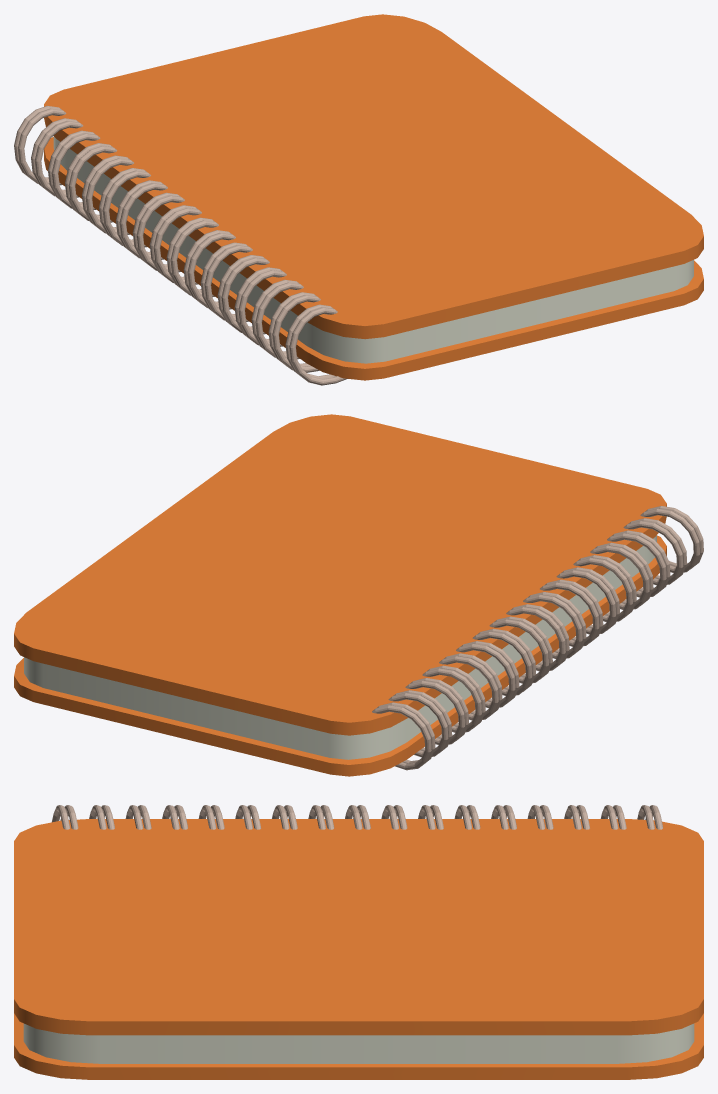
The model's file is wired_notebook_v2.fbx.
3 views of the same model, one above another, from view 1: azimuth 30°, elevation 25°; view 2: azimuth 150°, elevation 25°; view 3: azimuth 270°, elevation 25° (orthographic). The views are drawn at different scales.
Visible parts, largest first — view 1: Wired Book, Wires; view 2: Wired Book, Wires; view 3: Wired Book, Wires.
Boxes of the visible parts, box(x1,y1,x2,y2) form: Wired Book: box(44, 14, 703, 380); Wires: box(14, 105, 347, 385); Wired Book: box(14, 414, 666, 776); Wires: box(372, 506, 703, 770); Wired Book: box(14, 819, 703, 1079); Wires: box(52, 805, 663, 829).
Bounding box in the file's own units: 300 × 47.5 × 399.
